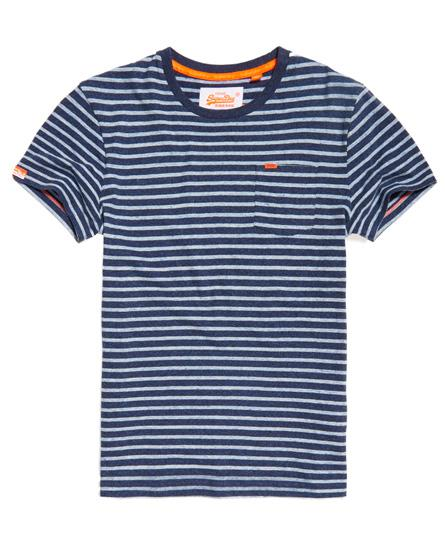teeshirt: (10, 40, 432, 524)
